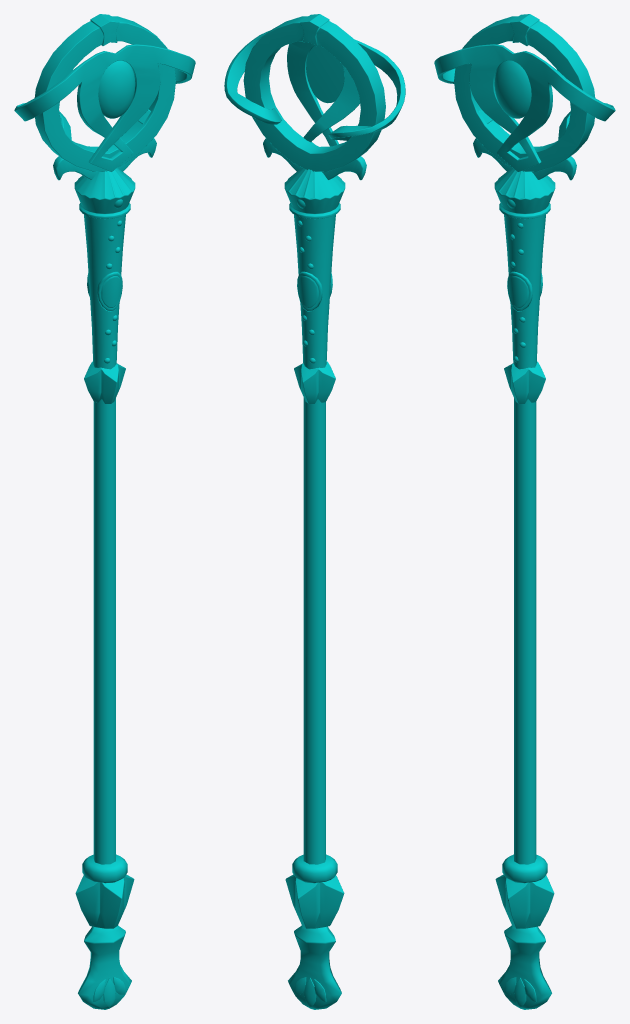
Rendered from STAFF006.FBX.
3 renders of one model, left to right at view 1: azimuth 30°, elevation 25°; view 2: azimuth 150°, elevation 25°; view 3: azimuth 330°, elevation 25°, orthographic.
Parts seen in each view (by area): view 1: Staff006_Shaft, Staff006_Head, Staff006_Pommel, Staff006_Jewel; view 2: Staff006_Shaft, Staff006_Head, Staff006_Pommel, Staff006_Jewel; view 3: Staff006_Shaft, Staff006_Head, Staff006_Pommel, Staff006_Jewel.
Boxes of the visible parts, left/top/right/bottom form: Staff006_Shaft: left=74, top=168, right=135, bottom=928; Staff006_Head: left=14, top=14, right=195, bottom=180; Staff006_Pommel: left=78, top=925, right=131, bottom=1009; Staff006_Jewel: left=98, top=61, right=135, bottom=118; Staff006_Shaft: left=284, top=168, right=345, bottom=928; Staff006_Head: left=224, top=14, right=405, bottom=180; Staff006_Pommel: left=288, top=925, right=341, bottom=1009; Staff006_Jewel: left=306, top=45, right=344, bottom=103; Staff006_Shaft: left=494, top=168, right=555, bottom=928; Staff006_Head: left=434, top=14, right=615, bottom=180; Staff006_Pommel: left=498, top=925, right=551, bottom=1009; Staff006_Jewel: left=494, top=61, right=531, bottom=118.
Bounding box in the file's own units: 0.3357 × 1.85 × 0.1289.
